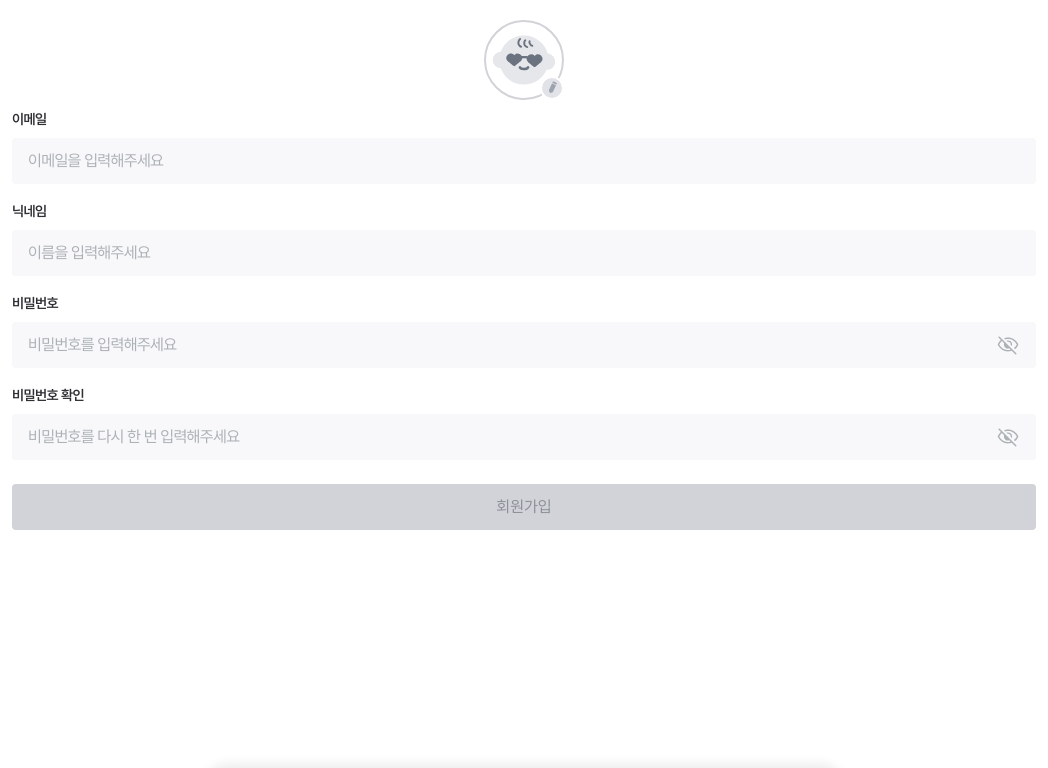
SignupForm › 비밀번호 확인이 비밀번호와 일치하지 않으면 "비밀번호가 일치하지 않습니다" 에러 메시지 확인
Type "test" into the field with placeholder "이메일을 입력해주세요". click: [524, 161]
box: x1=12 y1=138 x2=1036 y2=184
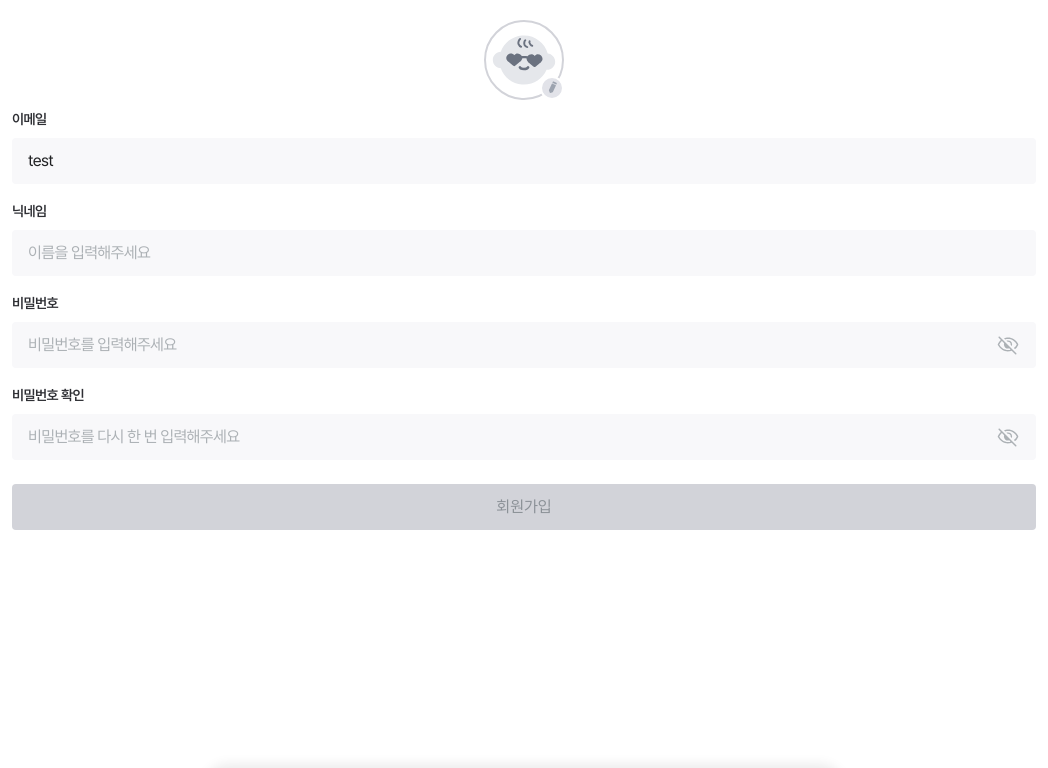
Type "테스트이름" into the field with placeholder "이름을 입력해주세요". click: [524, 253]
box: x1=12 y1=230 x2=1036 y2=276
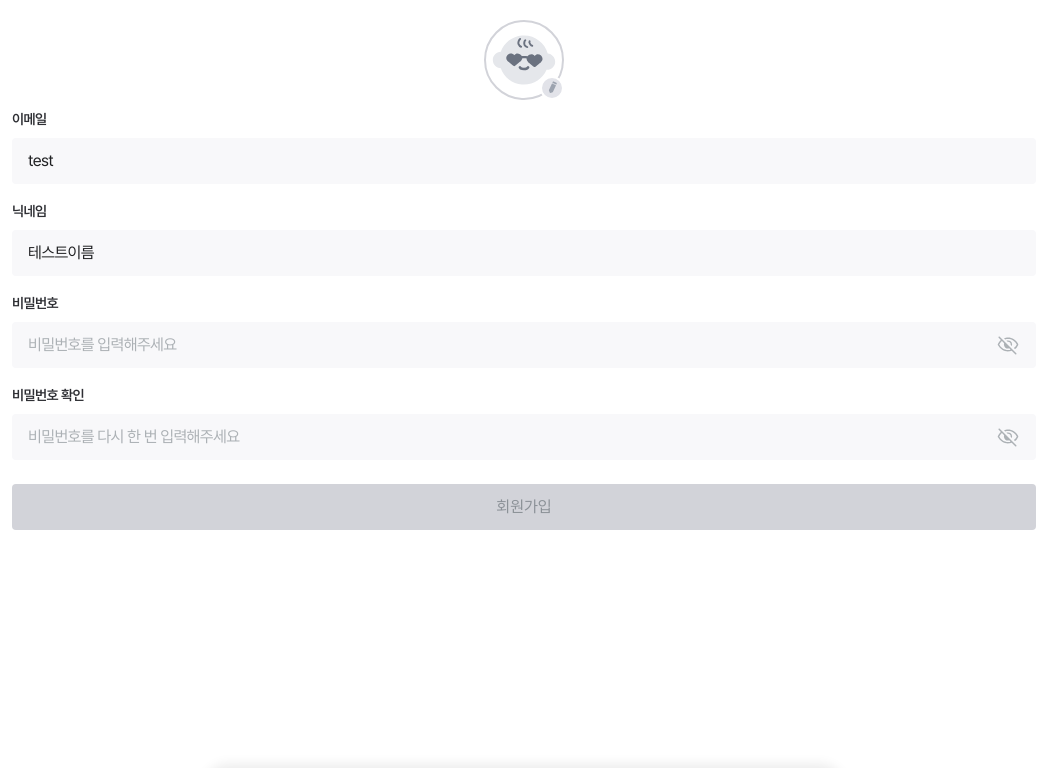
Type "password1234" into the password field with test id "password-input". click: [524, 345]
box: x1=12 y1=322 x2=1036 y2=368
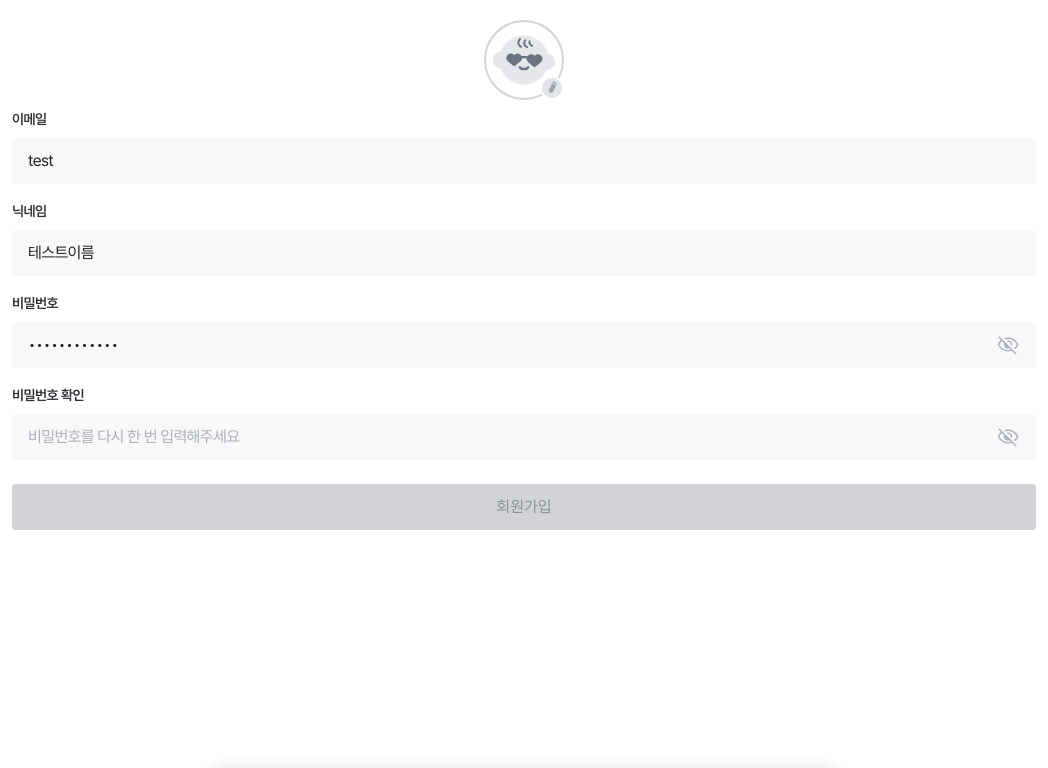
Type "password123" into the password field with test id "password-confirm-input". click: [524, 437]
box: x1=12 y1=414 x2=1036 y2=460
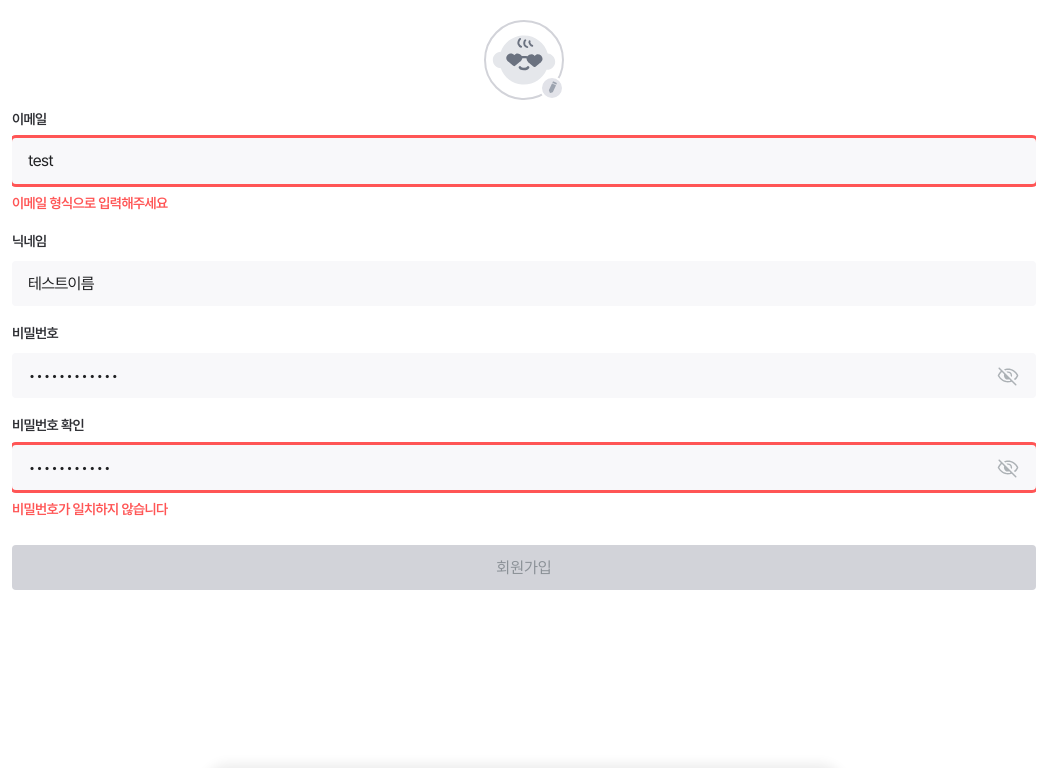
Expected: the text "비밀번호가 일치하지 않습니다" is shown, x1=12 y1=501 x2=168 y2=517
